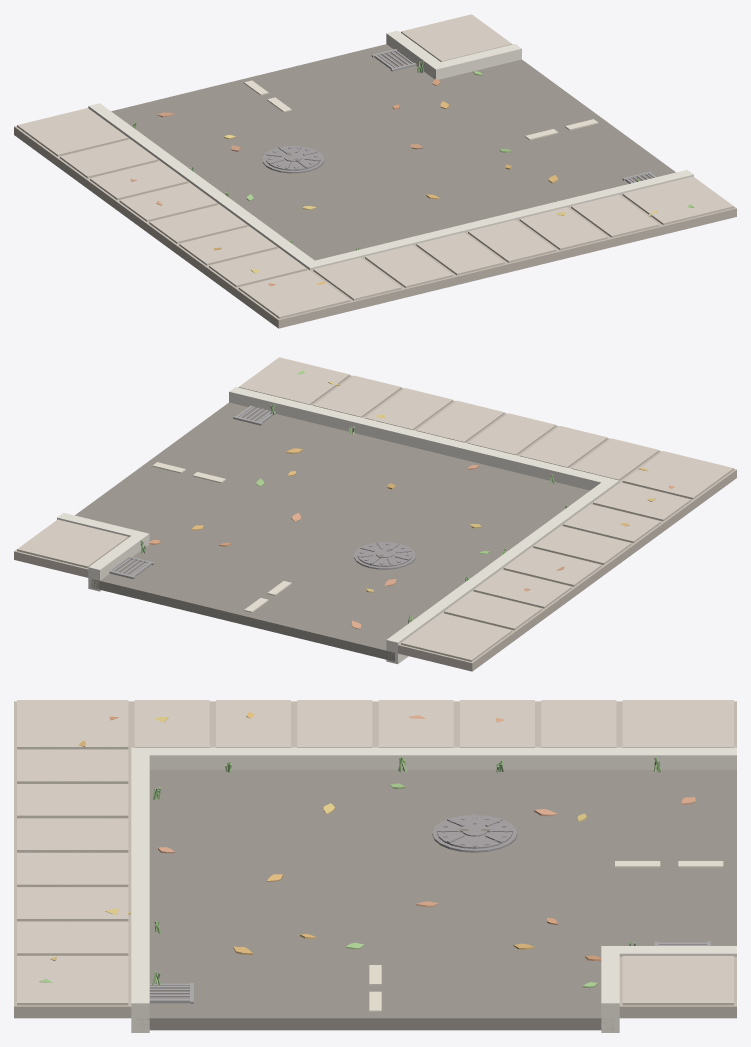
Rendered from Road_Corner_A.fbx.
3 renders of one model, top to bottom at view 1: azimuth 30°, elevation 25°; view 2: azimuth 150°, elevation 25°; view 3: azimuth 270°, elevation 25°, orthographic. The views are drawn at different scales.
Parts seen in each view (by area): view 1: Road_Corner_A, Road_Corner_A_Veg; view 2: Road_Corner_A, Road_Corner_A_Veg; view 3: Road_Corner_A, Road_Corner_A_Veg.
Boxes of the visible parts, left/top/right/bottom form: Road_Corner_A: left=14, top=14, right=736, bottom=328; Road_Corner_A_Veg: left=130, top=61, right=694, bottom=286; Road_Corner_A: left=14, top=357, right=736, bottom=671; Road_Corner_A_Veg: left=140, top=370, right=674, bottom=629; Road_Corner_A: left=14, top=700, right=736, bottom=1032; Road_Corner_A_Veg: left=39, top=712, right=695, bottom=987.
Bounding box in the file's own units: 8 × 0.3846 × 8.
